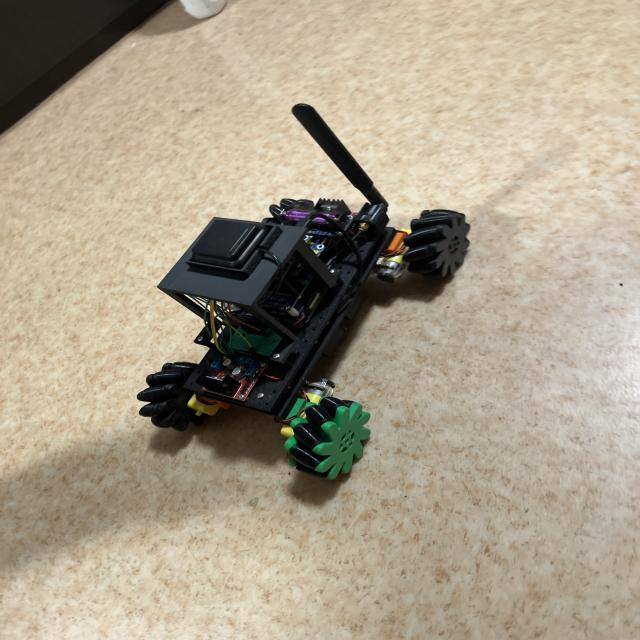robot: (137, 104, 469, 479)
